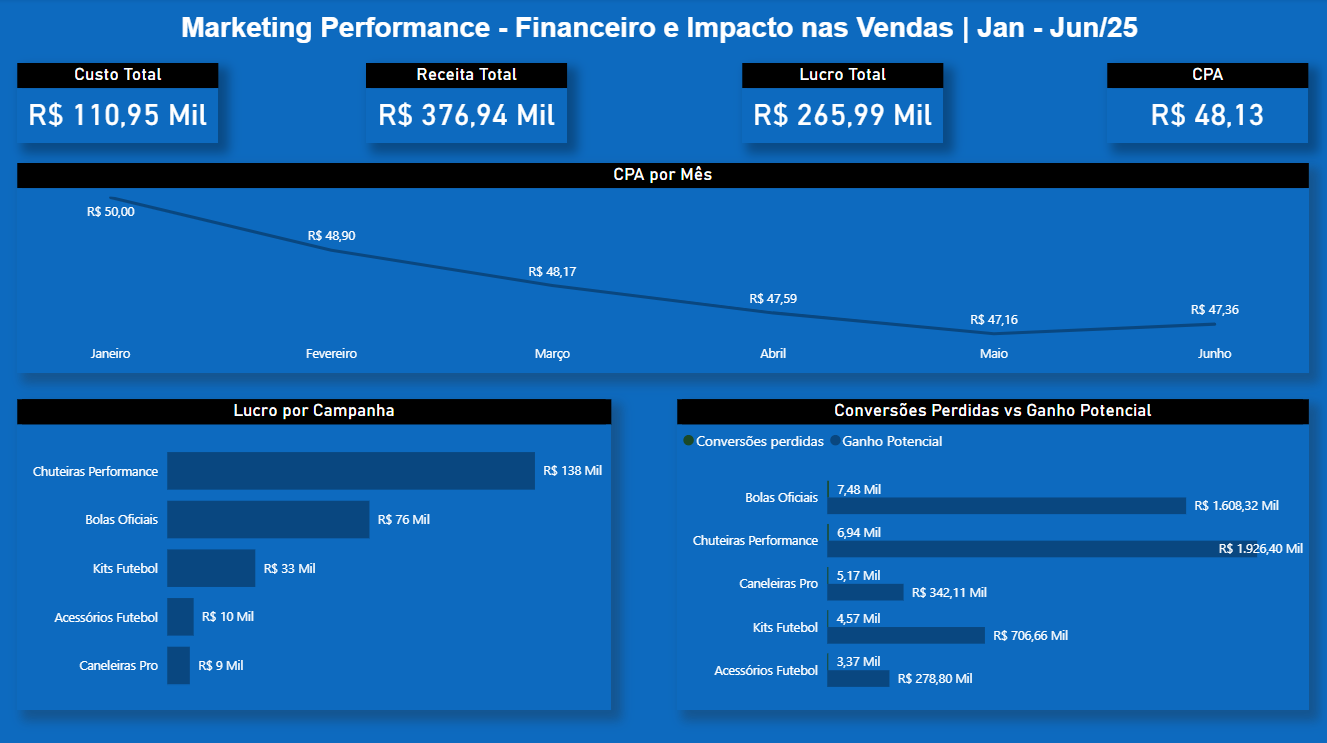

Layout of this report page (visuals, bound fields, positions):
{"tool":"powerbi","page":{"name":"Financeiro e Impacto das Vendas","canvas":[1280,720],"ordinal":4},"visuals":[{"type":"textbox","box":[172.6,8.4,933.6,46.7],"z":0},{"type":"card","title":"Custo Total","fields":{"Values":["Medidas.Custo Total"]},"box":[20.4,62.3,193,76.7],"z":1000},{"type":"card","title":"Receita Total","fields":{"Values":["Medidas.Receita Total"]},"box":[354.8,62.3,193,76.7],"z":2000},{"type":"card","title":"Lucro Total","fields":{"Values":["Medidas.Lucro Total"]},"box":[715.5,62.3,193,76.7],"z":3000},{"type":"card","title":"CPA","fields":{"Values":["Medidas.CPA"]},"box":[1065.5,62.3,193,76.7],"z":4000},{"type":"barChart","title":"Lucro por Campanha","fields":{"Category":["campaigns.campaign_name"],"Y":["Medidas.Lucro Total"]},"box":[20.4,384.7,569.3,298.4],"z":5000},{"type":"clusteredBarChart","title":"Conversões Perdidas vs Ganho Potencial","fields":{"Category":["campaigns.campaign_name"],"Y":["Medidas.Conversões perdidas","Medidas.Ganho Potencial"]},"box":[653.2,384.7,605.2,298.4],"z":6000},{"type":"lineChart","title":"CPA por Mês","fields":{"Category":["campaigns.month"],"Y":["Medidas.CPA"]},"box":[20.4,158.2,1238.1,201.3],"z":7000}]}

Visuals, with their boxes in screenshot pixels (x1, y1, x2, y2), scaled from the page's 1280x720 canvas onto the 1327x743 screenshot:
textbox: bbox(179, 9, 1147, 57)
"Custo Total" card: bbox(21, 64, 221, 143)
"Receita Total" card: bbox(368, 64, 568, 143)
"Lucro Total" card: bbox(742, 64, 942, 143)
"CPA" card: bbox(1105, 64, 1305, 143)
"Lucro por Campanha" barChart: bbox(21, 397, 611, 705)
"Conversões Perdidas vs Ganho Potencial" clusteredBarChart: bbox(677, 397, 1305, 705)
"CPA por Mês" lineChart: bbox(21, 163, 1305, 371)
